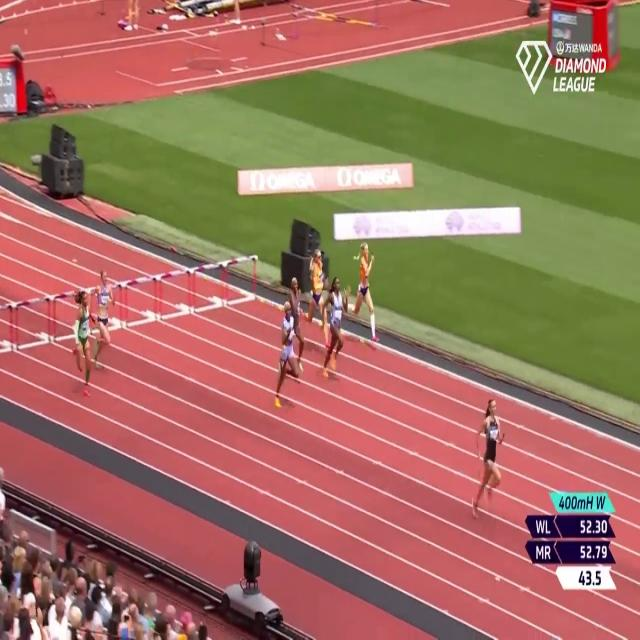athlete: (470, 394, 509, 528), (344, 237, 384, 352), (300, 238, 332, 348), (68, 283, 94, 397), (321, 274, 348, 381), (93, 264, 115, 378), (282, 278, 306, 376), (283, 300, 302, 417)
hurdle: (222, 249, 264, 307), (15, 292, 54, 352), (158, 263, 193, 327), (125, 274, 161, 336), (88, 278, 124, 340), (54, 288, 90, 348), (190, 257, 224, 317), (0, 302, 18, 359)
